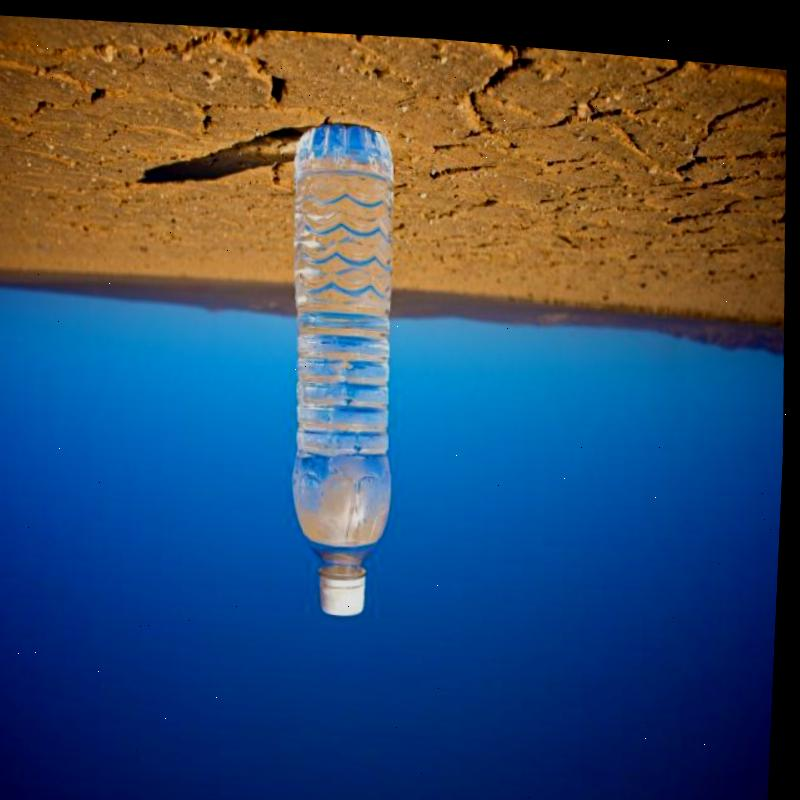botella: (279, 110, 412, 613)
